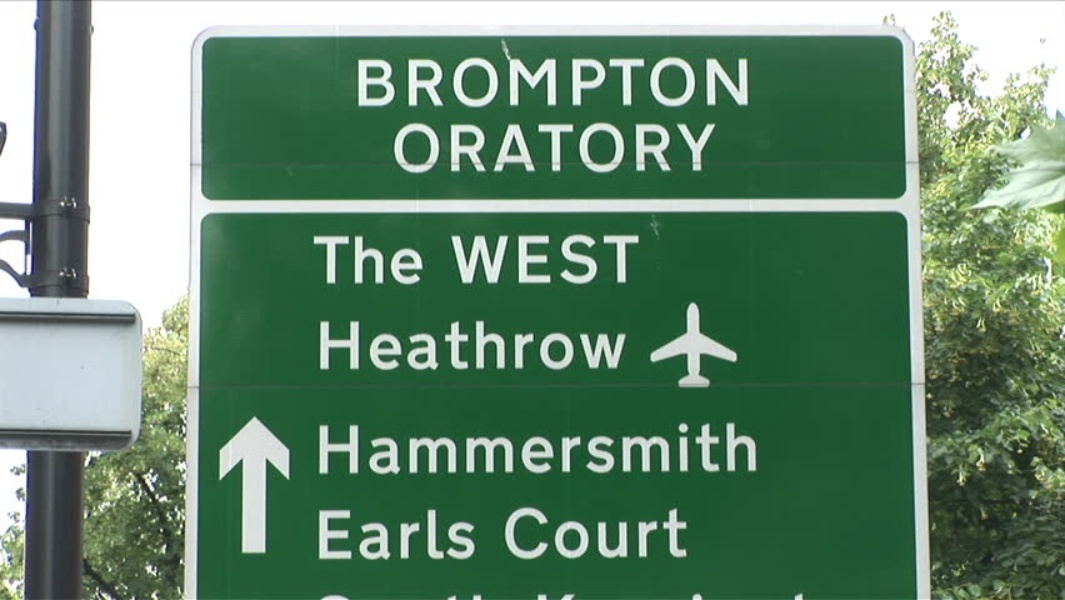text: (673, 506, 689, 559), (321, 422, 336, 476), (337, 422, 352, 476), (353, 422, 368, 476), (369, 422, 384, 476), (385, 422, 400, 476), (401, 422, 416, 476), (417, 422, 432, 476), (433, 422, 448, 476), (449, 422, 464, 476), (465, 422, 480, 476), (481, 422, 496, 476), (497, 422, 512, 476), (513, 422, 528, 476), (529, 422, 544, 476), (545, 422, 560, 476), (561, 422, 576, 476), (577, 422, 592, 476), (593, 422, 608, 476), (609, 422, 624, 476), (625, 422, 640, 476), (641, 422, 656, 476), (657, 422, 672, 476), (673, 422, 688, 476), (689, 422, 704, 476), (705, 422, 720, 476), (721, 422, 736, 476), (737, 422, 752, 476), (321, 508, 336, 562), (337, 508, 352, 562), (353, 508, 368, 562), (369, 508, 384, 562), (385, 508, 400, 562), (401, 508, 416, 562), (417, 508, 432, 562), (433, 508, 448, 562), (449, 508, 464, 562), (513, 506, 528, 559), (529, 506, 544, 559), (545, 506, 560, 559), (561, 506, 576, 559), (577, 506, 592, 559), (593, 506, 608, 559), (609, 506, 624, 559), (625, 506, 640, 559), (641, 506, 656, 559), (657, 506, 672, 559), (401, 122, 416, 173), (417, 122, 432, 173), (433, 122, 448, 173), (449, 122, 464, 173), (465, 122, 480, 173), (481, 122, 496, 173), (497, 122, 512, 173), (513, 122, 528, 173), (529, 122, 544, 173), (545, 122, 560, 173), (561, 122, 576, 173), (577, 122, 592, 173), (593, 122, 608, 173), (609, 122, 624, 173), (625, 122, 640, 173), (641, 122, 656, 173), (657, 122, 672, 173), (673, 122, 688, 173), (689, 122, 704, 173), (449, 233, 464, 284), (465, 233, 480, 284), (481, 233, 496, 284), (497, 233, 512, 284), (513, 233, 528, 284), (529, 233, 544, 284), (545, 233, 560, 284), (561, 233, 576, 284), (577, 233, 592, 284), (593, 233, 608, 284), (609, 233, 624, 284), (625, 233, 640, 284), (369, 58, 384, 108), (385, 58, 400, 108), (401, 58, 416, 108), (417, 58, 432, 108), (433, 58, 448, 108), (449, 58, 464, 108), (465, 58, 480, 108), (481, 58, 496, 108), (497, 58, 512, 108), (513, 58, 528, 108), (529, 58, 544, 108), (545, 58, 560, 108), (561, 58, 576, 108), (577, 58, 592, 108), (593, 58, 608, 108), (609, 58, 624, 108), (625, 58, 640, 108), (641, 58, 656, 108), (657, 58, 672, 108), (673, 58, 688, 108), (689, 58, 704, 108), (705, 58, 720, 108), (721, 58, 736, 108), (321, 236, 336, 286), (337, 236, 352, 286), (353, 236, 368, 286), (369, 236, 384, 286), (385, 236, 400, 286), (401, 236, 416, 286), (321, 321, 336, 371), (337, 321, 352, 371), (353, 321, 368, 371), (369, 321, 384, 371), (385, 321, 400, 371), (401, 321, 416, 371), (417, 321, 432, 371), (433, 321, 448, 371), (449, 321, 464, 371), (465, 321, 480, 371), (481, 321, 496, 371), (497, 321, 512, 371), (513, 321, 528, 371), (529, 321, 544, 371), (545, 321, 560, 371), (561, 321, 576, 371), (577, 321, 592, 371), (593, 321, 608, 371), (609, 321, 624, 371), (705, 122, 718, 173), (465, 508, 477, 562), (737, 58, 749, 108), (357, 58, 368, 108), (504, 506, 512, 559), (312, 236, 320, 286), (417, 236, 424, 286), (394, 122, 400, 173), (625, 321, 631, 371), (753, 422, 758, 476), (317, 422, 320, 476), (318, 508, 320, 562), (641, 233, 642, 284)
